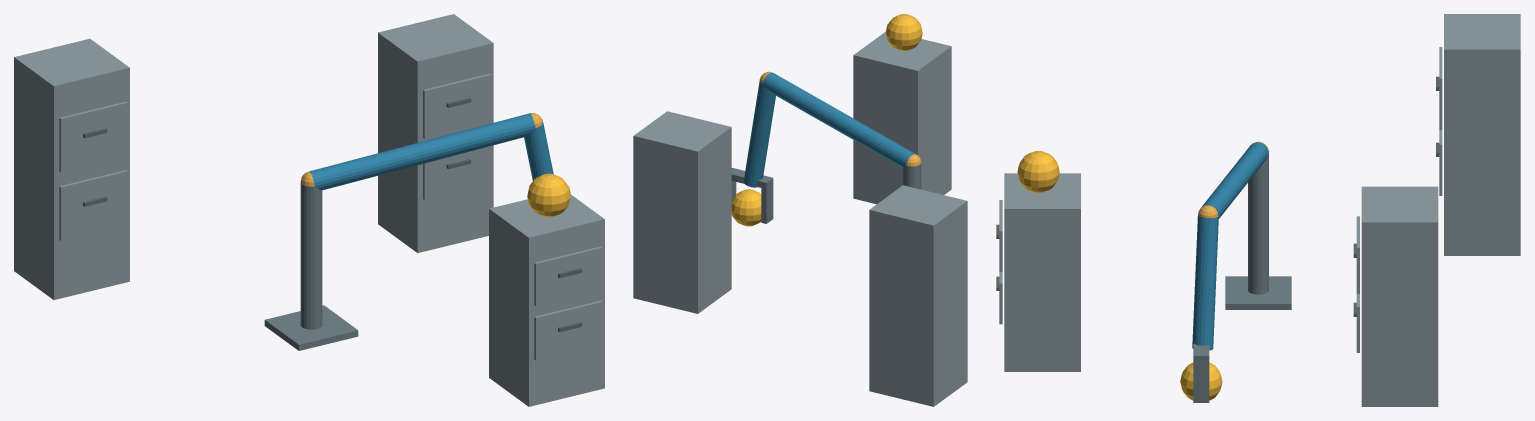
3 views of the same model, side by side, from view 1: azimuth 30°, elevation 25°; view 2: azimuth 150°, elevation 25°; view 3: azimuth 270°, elevation 25° (orthographic). The views are drawn at different scales.
Parts seen in each view (by area): view 1: cabinet_3 body, cabinet_2 body, cabinet_1 body, moving link 1, cabinet_3 drawer front.001, cabinet_3 drawer front, cabinet_2 drawer front.001, fixed post, cabinet_1 drawer front, cabinet_1 drawer front.001, cabinet_2 drawer front, pedestal (+2 smaller); view 2: cabinet_3 body, cabinet_2 body, cabinet_1 body, moving link 1, moving link 2, released ball_1, ball ball_2, gripper finger -1, fixed post, gripper bridge; view 3: cabinet_3 body, cabinet_2 body, cabinet_1 body, moving link 2, fixed post, pedestal, moving link 1, released ball_1, ball ball_2, gripper finger 1.
Part boxes in pixels (x1,y1,x2,y2): cabinet_3 body: (14, 38, 129, 299); cabinet_2 body: (378, 14, 493, 252); cabinet_1 body: (489, 194, 604, 406); moving link 1: (309, 113, 535, 190); cabinet_3 drawer front.001: (59, 101, 127, 172); cabinet_3 drawer front: (59, 170, 127, 240); cabinet_2 drawer front.001: (423, 73, 491, 138); fixed post: (300, 183, 322, 329); cabinet_1 drawer front: (534, 300, 602, 360); cabinet_1 drawer front.001: (534, 246, 602, 305); cabinet_2 drawer front: (423, 146, 491, 200); pedestal: (264, 305, 358, 350); cabinet_3 body: (869, 185, 967, 406); cabinet_2 body: (633, 111, 731, 313); cabinet_1 body: (853, 31, 951, 204); moving link 1: (762, 72, 915, 167); moving link 2: (744, 79, 775, 187); released ball_1: (886, 14, 922, 50); ball ball_2: (731, 189, 761, 226); gripper finger -1: (761, 184, 773, 223); fixed post: (903, 164, 921, 189); gripper bridge: (731, 168, 773, 189); cabinet_3 body: (1444, 14, 1520, 255); cabinet_2 body: (1361, 186, 1438, 406); cabinet_1 body: (1004, 173, 1080, 371); moving link 2: (1192, 215, 1218, 350); fixed post: (1248, 153, 1268, 294); pedestal: (1225, 276, 1291, 309); moving link 1: (1200, 142, 1268, 218); released ball_1: (1017, 151, 1059, 192); ball ball_2: (1180, 362, 1222, 400); gripper finger 1: (1193, 363, 1209, 402).
Bounding box in the file's own units: 1.72 × 0.86 × 1.98.
